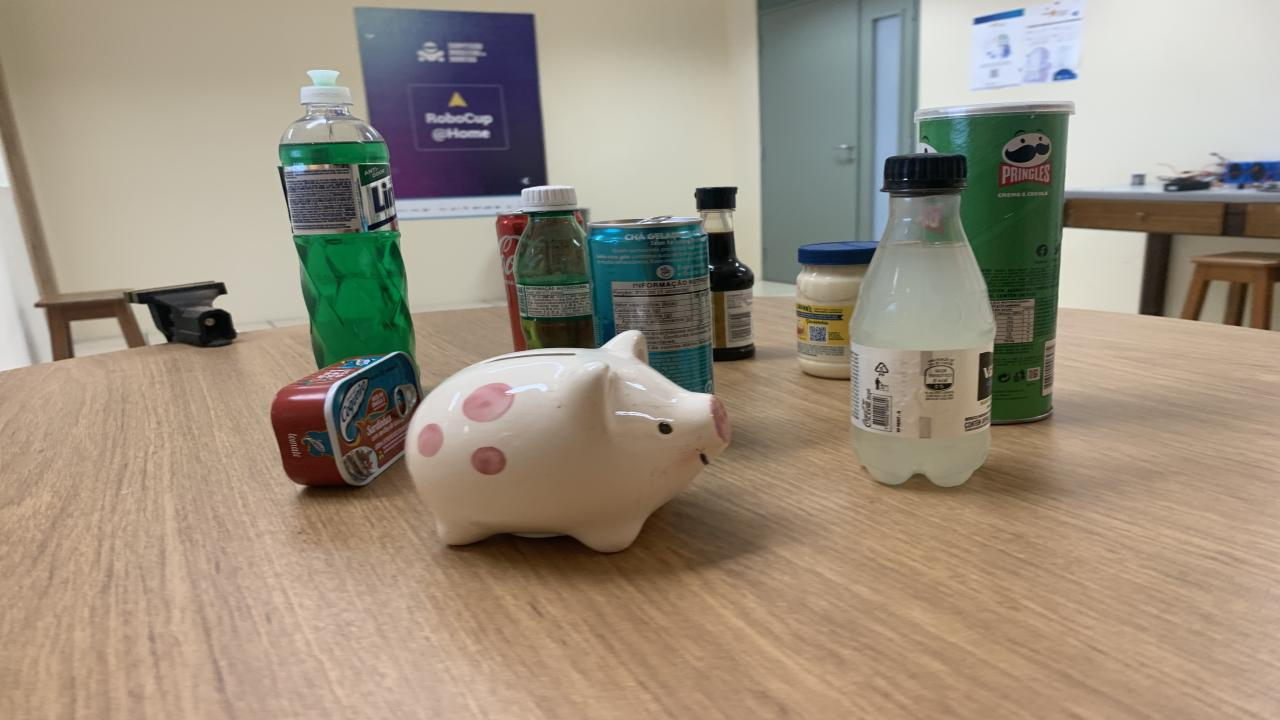Coke-Drinks: (495, 214, 528, 351)
Detergent-Cleanup_Items: (280, 71, 415, 368)
English_Sauce-Pantry_Items: (698, 188, 755, 362)
Guarana-Drinks: (515, 186, 595, 349)
Mayonnaise-Pantry_Items: (795, 242, 878, 379)
Pig_Safe-Miscellaneous: (405, 330, 730, 553)
Pringles-Snacks: (915, 101, 1075, 424)
Soda-Drinks: (850, 154, 995, 488)
Tea-Drinks: (588, 218, 712, 392)
Tuna_Can-Pantry_Items: (270, 352, 420, 486)
